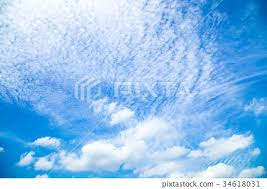sky: (1, 2, 267, 180)
